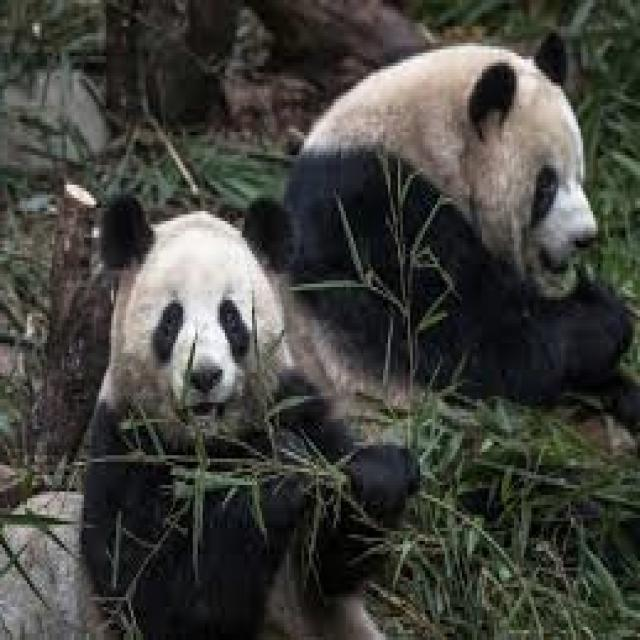panda: (247, 33, 640, 426), (84, 195, 418, 637)
